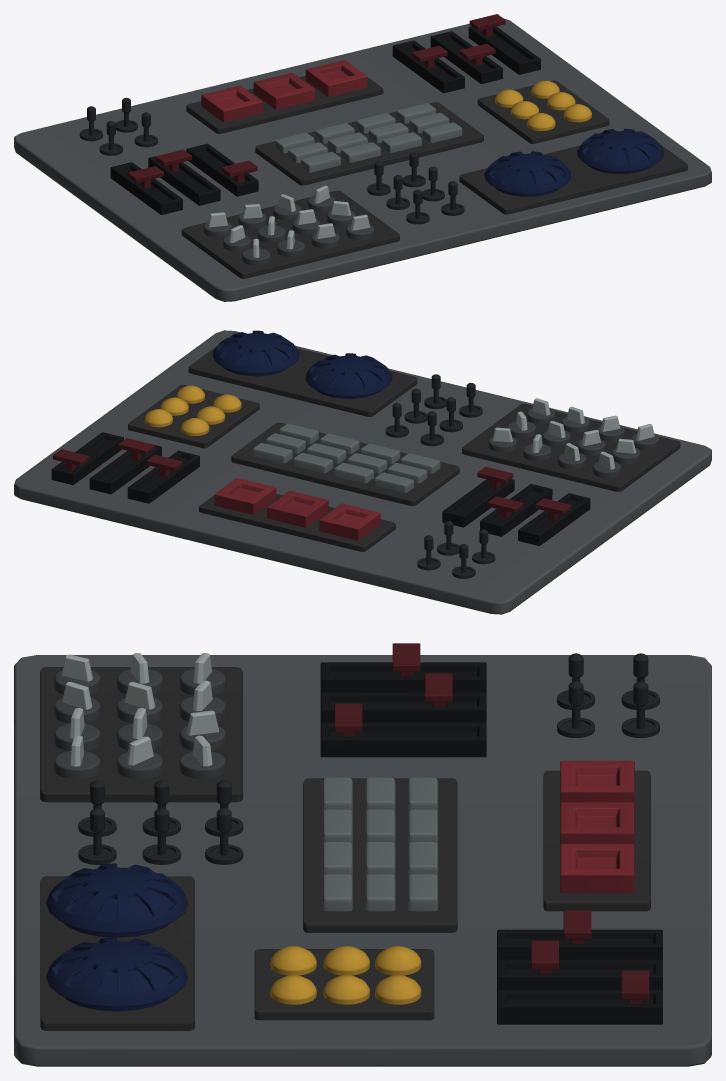
The model's file is Modulo_Riempimento_Doppio.fbx.
3 views of the same model, one above another, from view 1: azimuth 30°, elevation 25°; view 2: azimuth 150°, elevation 25°; view 3: azimuth 270°, elevation 25° (orthographic). The views are drawn at different scales.
Parts seen in each view (by area): view 1: Riempimento_Doppio; view 2: Riempimento_Doppio; view 3: Riempimento_Doppio.
Boxes of the visible parts, x1,y1,x2,y2 form: Riempimento_Doppio: (14,14,711,301); Riempimento_Doppio: (14,330,711,614); Riempimento_Doppio: (14,643,711,1066).
Size of the model in its own units: 40 by 3.28 by 30.
